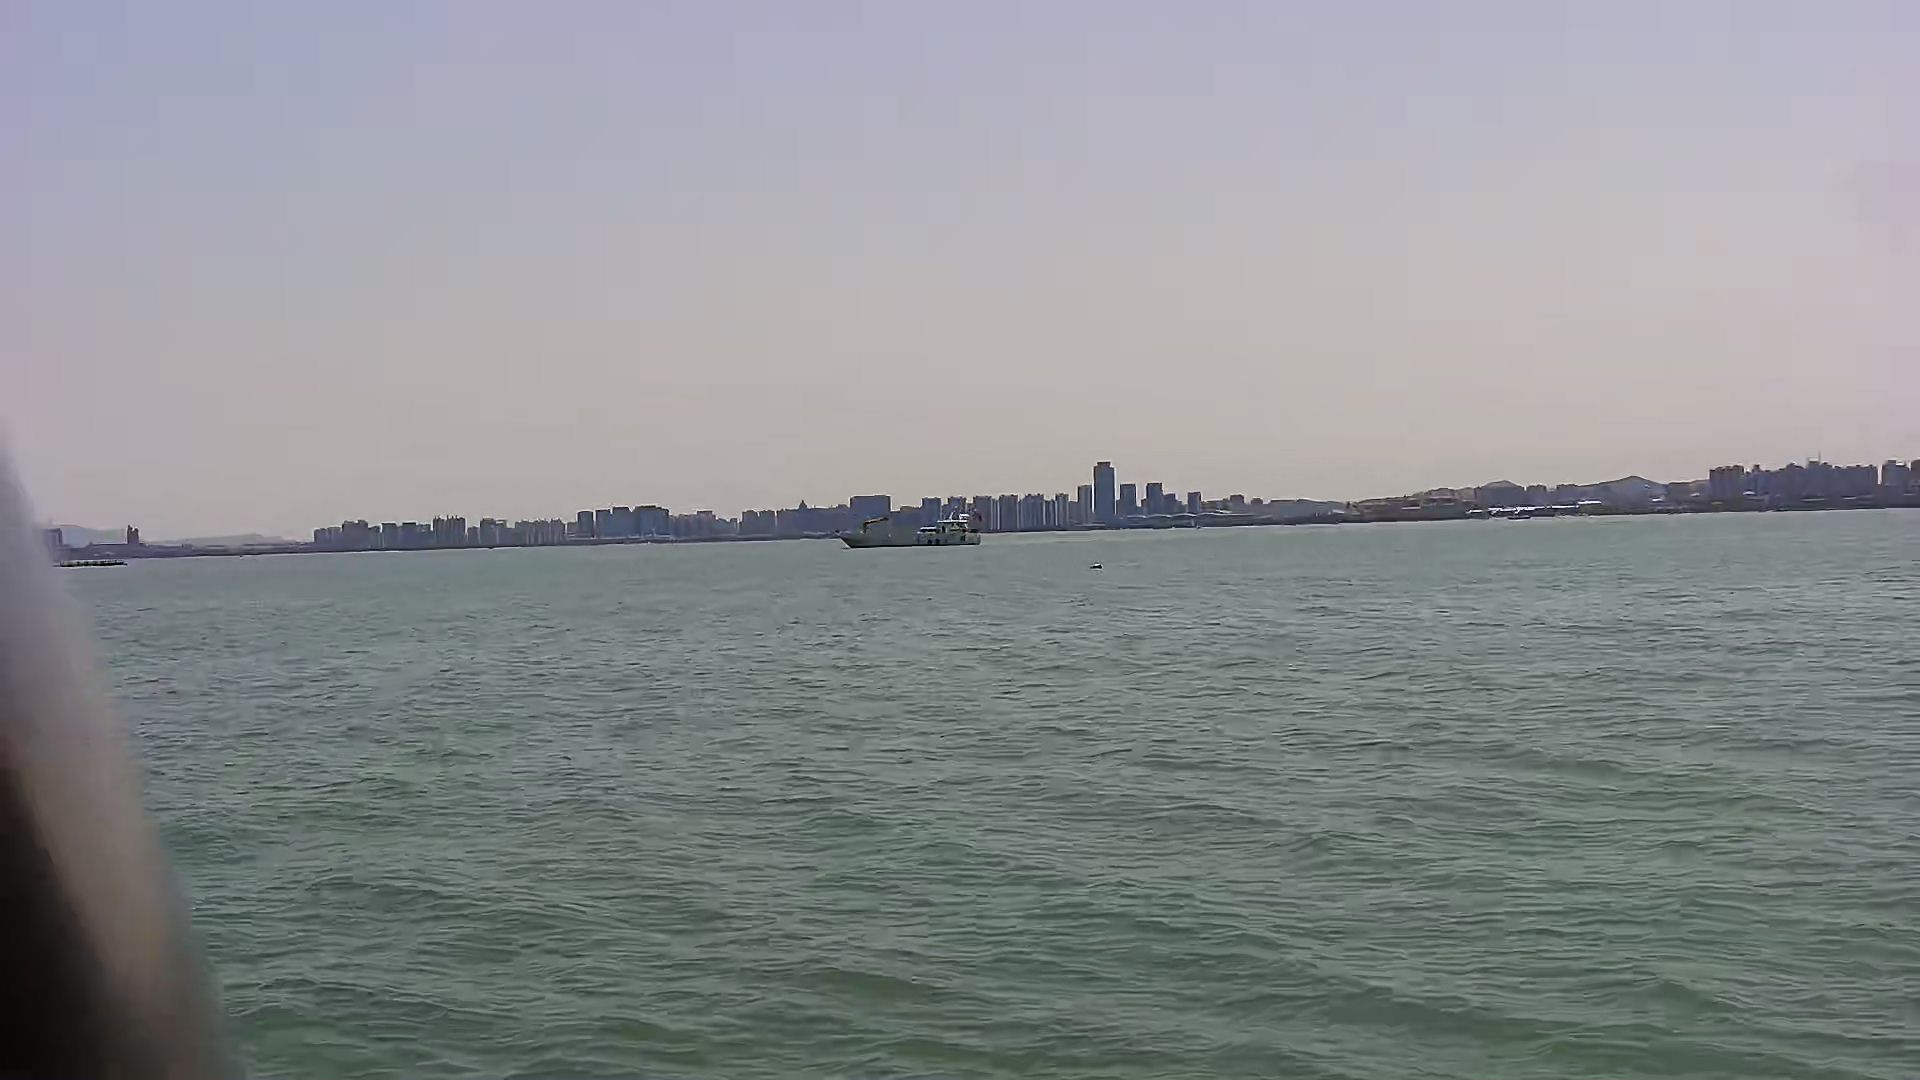ship: (825, 500, 1002, 556)
